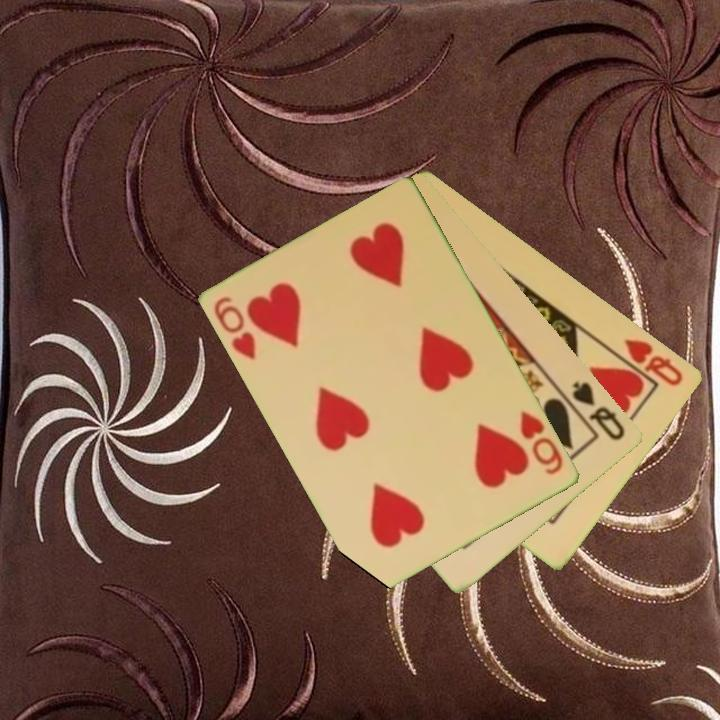6h: (517, 407, 567, 478), (211, 293, 260, 363)
Qh: (621, 335, 686, 389)
Qs: (569, 377, 629, 444)
